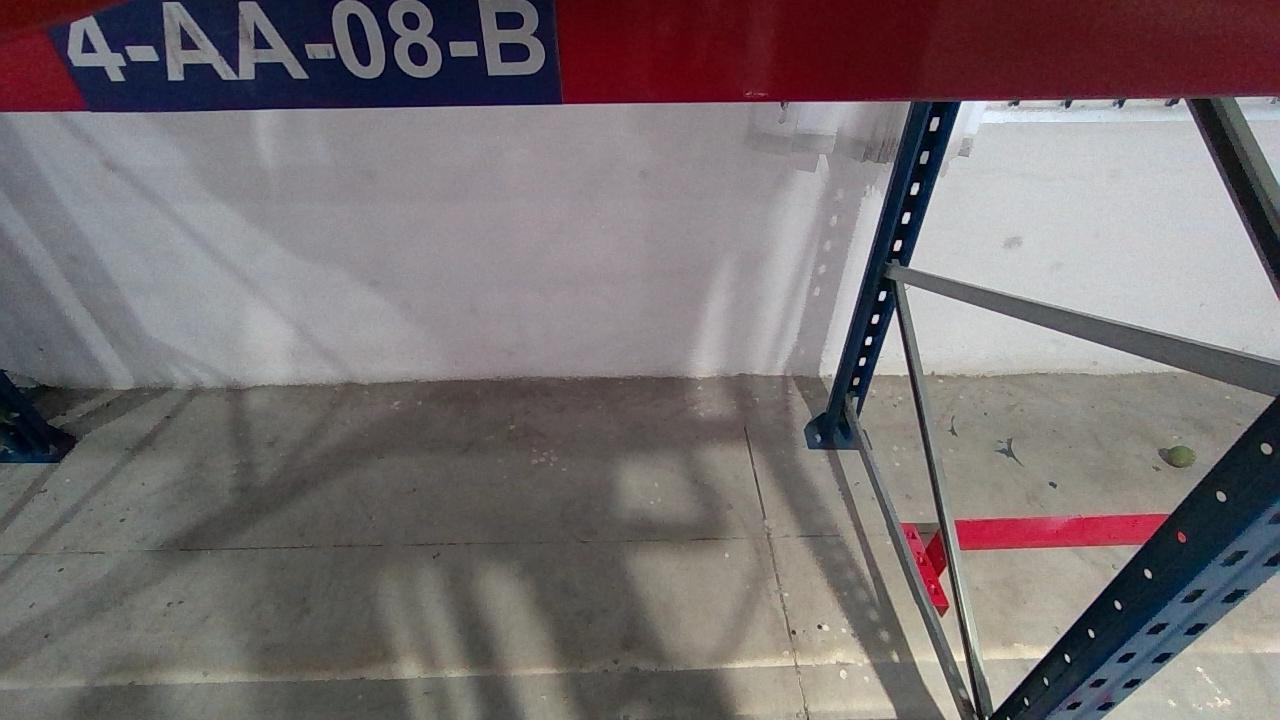h_rack: (0, 2, 1280, 110)
